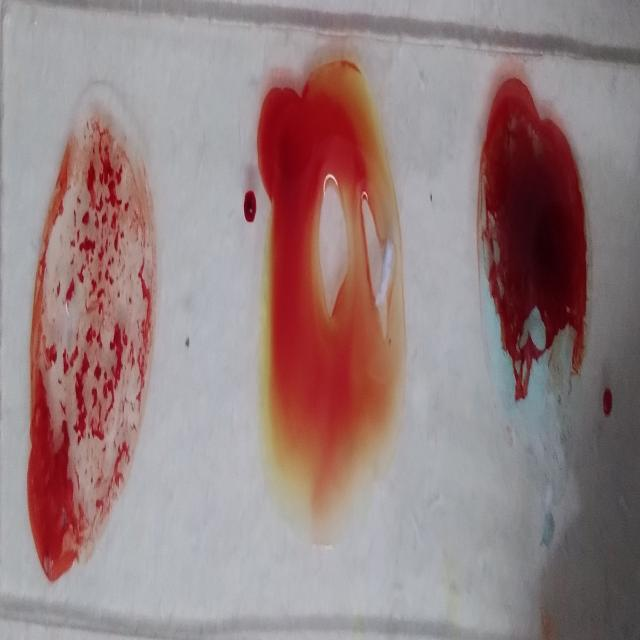A: (471, 91, 588, 528)
D: (32, 103, 150, 580)
